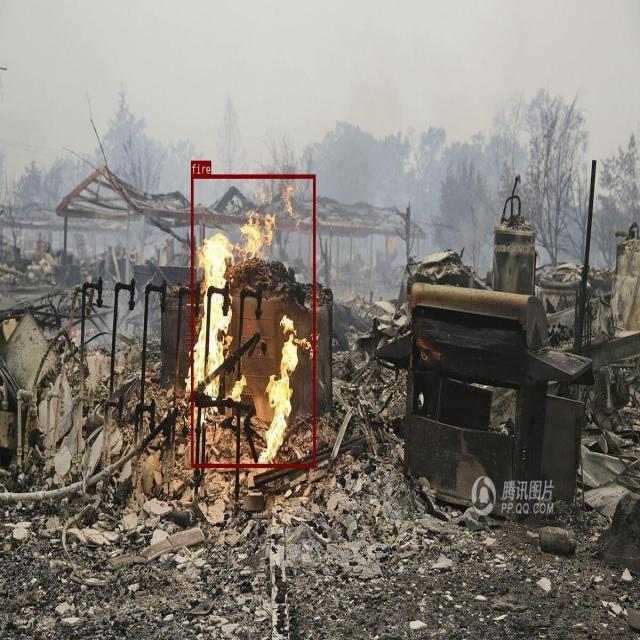fire: (191, 174, 315, 467)
